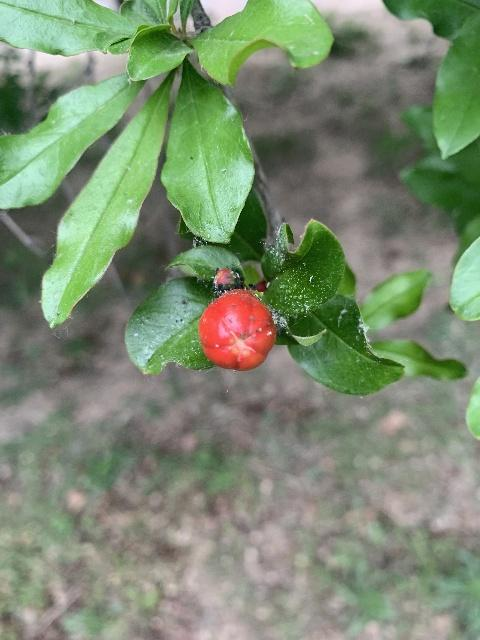bud: (198, 289, 275, 372), (213, 267, 235, 287)
